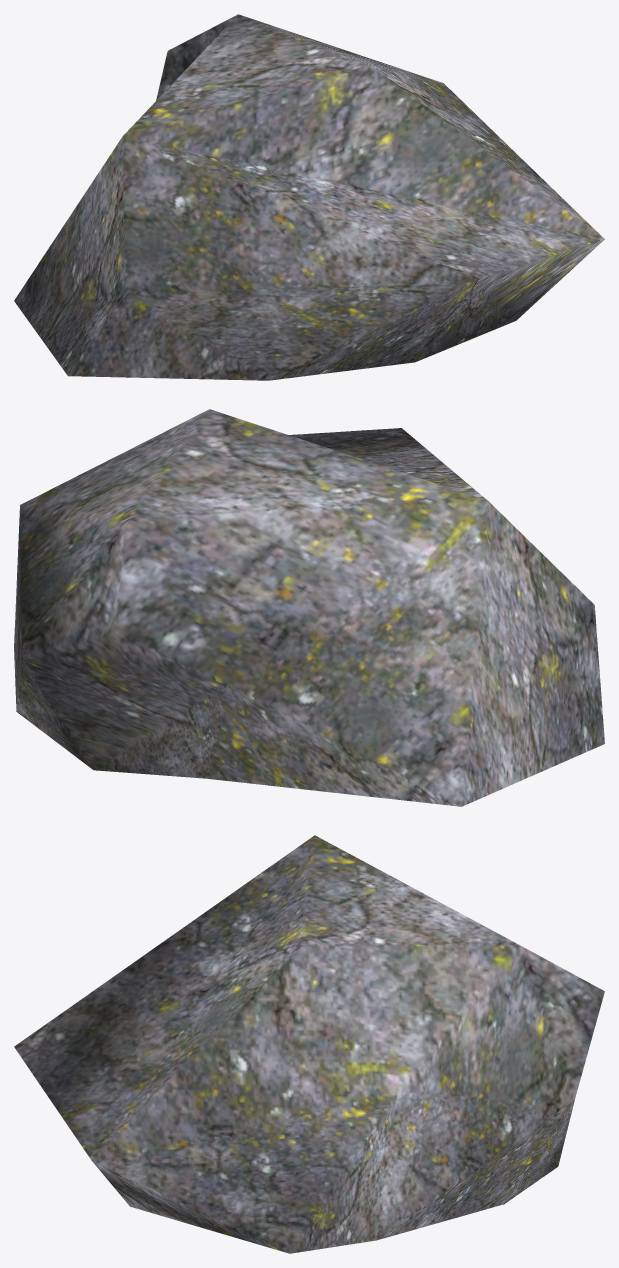
Rendered from rock_weatheredmossy_medium_a4_l1.fbx.
The picture shows the model from 3 angles, top to bottom: view 1: azimuth 30°, elevation 25°; view 2: azimuth 150°, elevation 25°; view 3: azimuth 270°, elevation 25°; orthographic projection. The views are drawn at different scales.
Parts seen in each view (by area): view 1: mesh_node; view 2: mesh_node; view 3: mesh_node.
Boxes of the visible parts, x1=… form: mesh_node: x1=14, y1=14, x2=604, y2=380; mesh_node: x1=14, y1=409, x2=604, y2=806; mesh_node: x1=14, y1=835, x2=604, y2=1253.
Size of the model in its own units: 0.486 by 0.2082 by 0.4751.
1 material, 1 textured.
